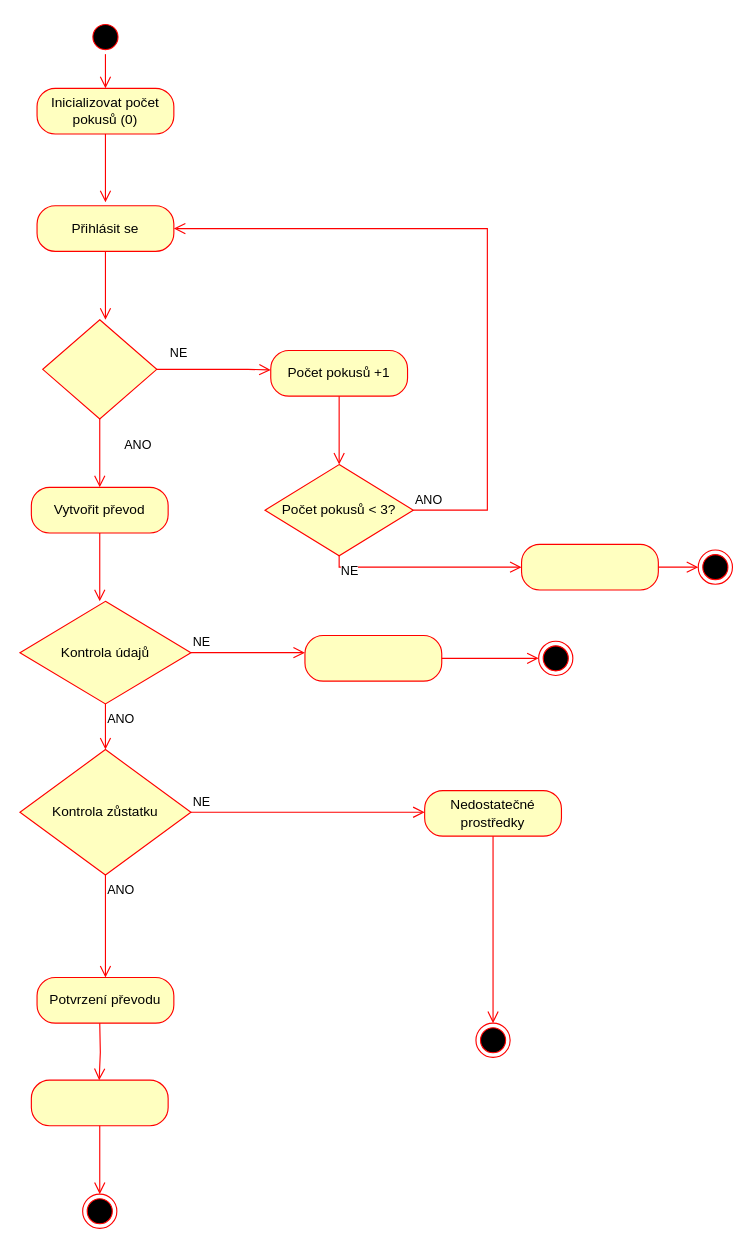
This 752x1248 diagram has some shape labels left out. The centre of each missing label's shape, as x and y in pixels:
"Chyba přihlášení" goes at point 589,566.
"Chyba zadání údajů" goes at point 373,657.
"Login a heslo ok?" goes at point 99,369.
"Vykonání převodu" goes at point 99,1102.
